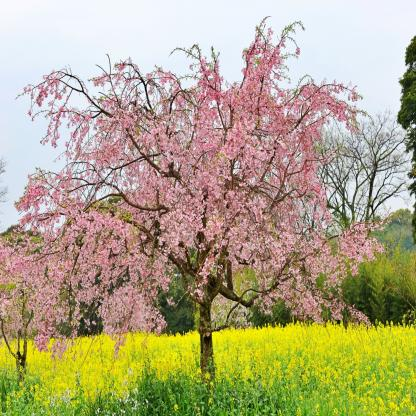ShidareZakura: (0, 16, 393, 370)
